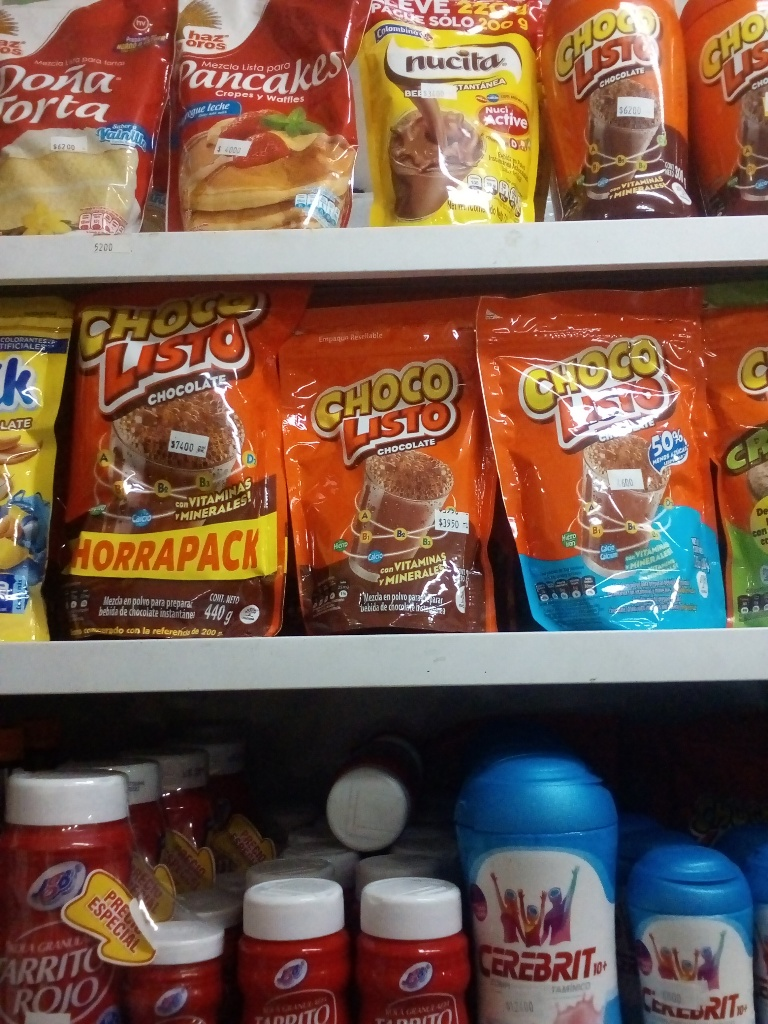COL0170103DYP44000: (73, 285, 280, 633)
COL0170104DYP20000: (477, 290, 729, 631)
